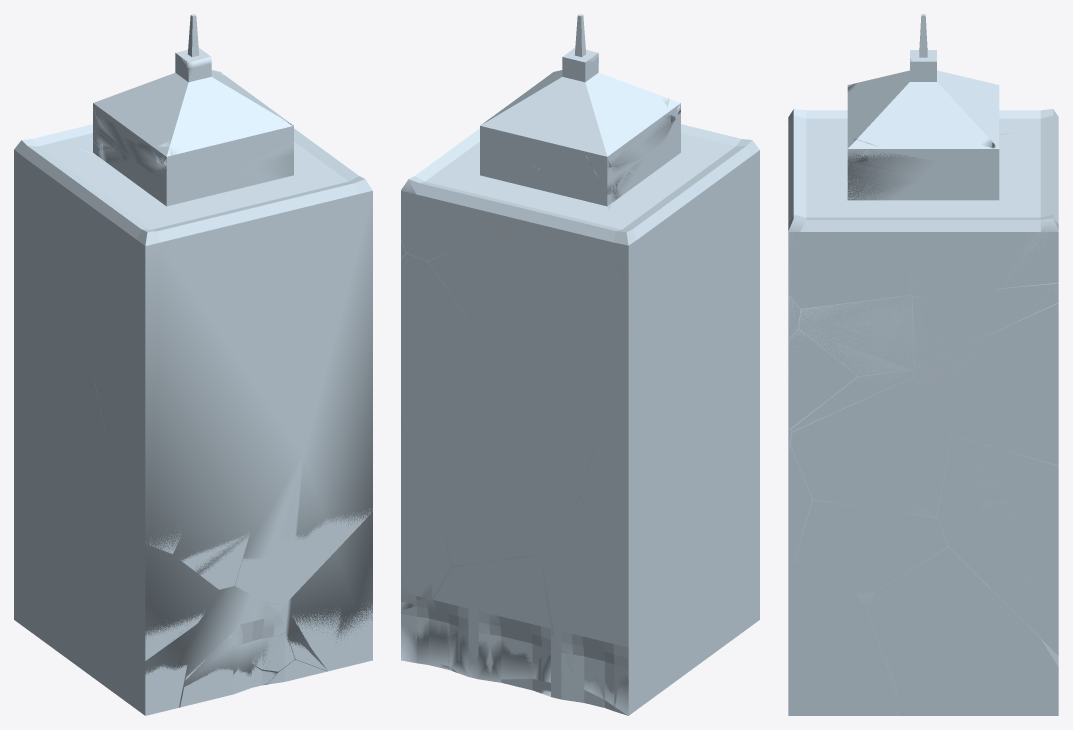
The model's file is skyscraperE_destroyedfixed.fbx.
3 renders of one model, left to right at view 1: azimuth 30°, elevation 25°; view 2: azimuth 150°, elevation 25°; view 3: azimuth 270°, elevation 25°, orthographic. The views are drawn at different scales.
Parts seen in each view (by area): view 1: skyscraperE, skyscraperE_cell.004, skyscraperE_cell.007, skyscraperE_cell.060, skyscraperE_cell.044, skyscraperE_cell.049, skyscraperE_cell.038, skyscraperE_cell.058, skyscraperE_cell.048, skyscraperE_cell.021, skyscraperE_cell.010, skyscraperE_cell.011 (+15 smaller); view 2: skyscraperE, skyscraperE_cell.041, skyscraperE_cell.052, skyscraperE_cell.021, skyscraperE_cell, skyscraperE_cell.062, skyscraperE_cell.032, skyscraperE_cell.004, skyscraperE_cell.027, skyscraperE_cell.034, skyscraperE_cell.060, skyscraperE_cell.036 (+18 smaller); view 3: skyscraperE, skyscraperE_cell.013, skyscraperE_cell, skyscraperE_cell.018, skyscraperE_cell.050, skyscraperE_cell.062, skyscraperE_cell.011, skyscraperE_cell.056, skyscraperE_cell.019, skyscraperE_cell.033, skyscraperE_cell.040, skyscraperE_cell.003 (+9 smaller).
Part boxes in pixels (left/top/right/bottom): skyscraperE: left=14, top=15, right=372, bottom=707; skyscraperE_cell.004: left=40, top=340, right=111, bottom=541; skyscraperE_cell.007: left=43, top=536, right=132, bottom=674; skyscraperE_cell.060: left=14, top=173, right=131, bottom=303; skyscraperE_cell.044: left=94, top=374, right=180, bottom=553; skyscraperE_cell.049: left=96, top=128, right=208, bottom=263; skyscraperE_cell.038: left=235, top=509, right=372, bottom=604; skyscraperE_cell.058: left=104, top=513, right=204, bottom=660; skyscraperE_cell.048: left=38, top=267, right=102, bottom=379; skyscraperE_cell.021: left=14, top=447, right=41, bottom=624; skyscraperE_cell.010: left=14, top=137, right=123, bottom=190; skyscraperE_cell.011: left=282, top=604, right=372, bottom=671; skyscraperE: left=401, top=15, right=759, bottom=715; skyscraperE_cell.041: left=428, top=236, right=658, bottom=438; skyscraperE_cell.052: left=425, top=432, right=595, bottom=566; skyscraperE_cell.021: left=541, top=498, right=656, bottom=714; skyscraperE_cell: left=401, top=89, right=539, bottom=260; skyscraperE_cell.062: left=401, top=253, right=508, bottom=438; skyscraperE_cell.032: left=433, top=554, right=550, bottom=678; skyscraperE_cell.004: left=655, top=359, right=725, bottom=556; skyscraperE_cell.027: left=520, top=59, right=653, bottom=176; skyscraperE_cell.034: left=580, top=399, right=655, bottom=554; skyscraperE_cell.060: left=588, top=176, right=699, bottom=364; skyscraperE_cell.036: left=488, top=143, right=613, bottom=272; skyscraperE: left=788, top=16, right=1058, bottom=715; skyscraperE_cell.013: left=868, top=547, right=1058, bottom=715; skyscraperE_cell: left=896, top=117, right=1058, bottom=296; skyscraperE_cell.018: left=937, top=435, right=1058, bottom=655; skyscraperE_cell.050: left=790, top=377, right=950, bottom=516; skyscraperE_cell.062: left=914, top=303, right=1058, bottom=465; skyscraperE_cell.011: left=788, top=560, right=903, bottom=715; skyscraperE_cell.056: left=788, top=202, right=910, bottom=308; skyscraperE_cell.019: left=795, top=500, right=948, bottom=593; skyscraperE_cell.033: left=799, top=295, right=914, bottom=375; skyscraperE_cell.040: left=912, top=283, right=1058, bottom=367; skyscraperE_cell.003: left=793, top=96, right=905, bottom=215.
Size of the model in its own units: 120 by 315 by 120.
